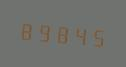eight: (18, 16, 35, 44), (54, 19, 71, 47)
five: (90, 22, 107, 50)
four: (72, 20, 89, 49)
nine: (36, 17, 53, 46)
